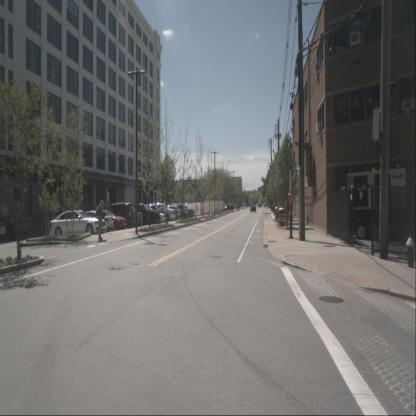human-pedestrian-adult: (96, 200, 104, 240)
vehicle-car: (48, 210, 106, 238), (104, 202, 136, 230), (124, 202, 160, 226), (77, 210, 113, 233), (93, 208, 126, 232), (146, 203, 176, 221), (145, 205, 170, 222), (170, 204, 195, 217), (163, 205, 180, 219), (172, 206, 189, 219), (250, 204, 256, 213)
vehicle-truck: (258, 199, 262, 207)
